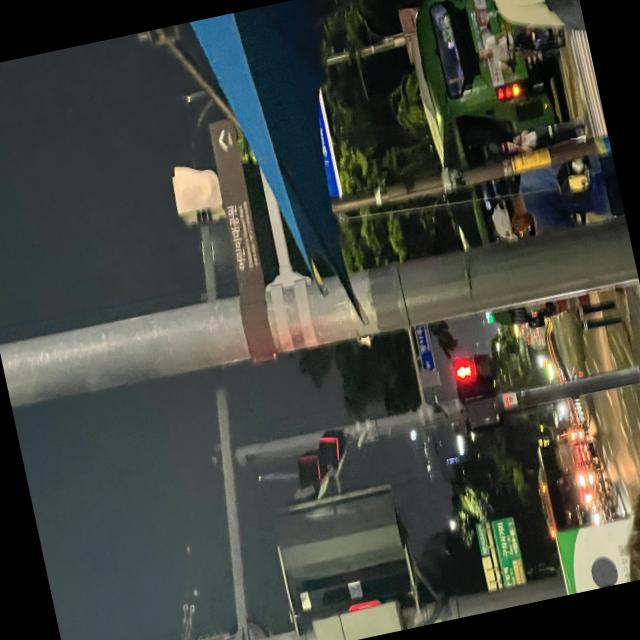red_light: (440, 334, 516, 402)
zebra: (529, 0, 640, 329)
